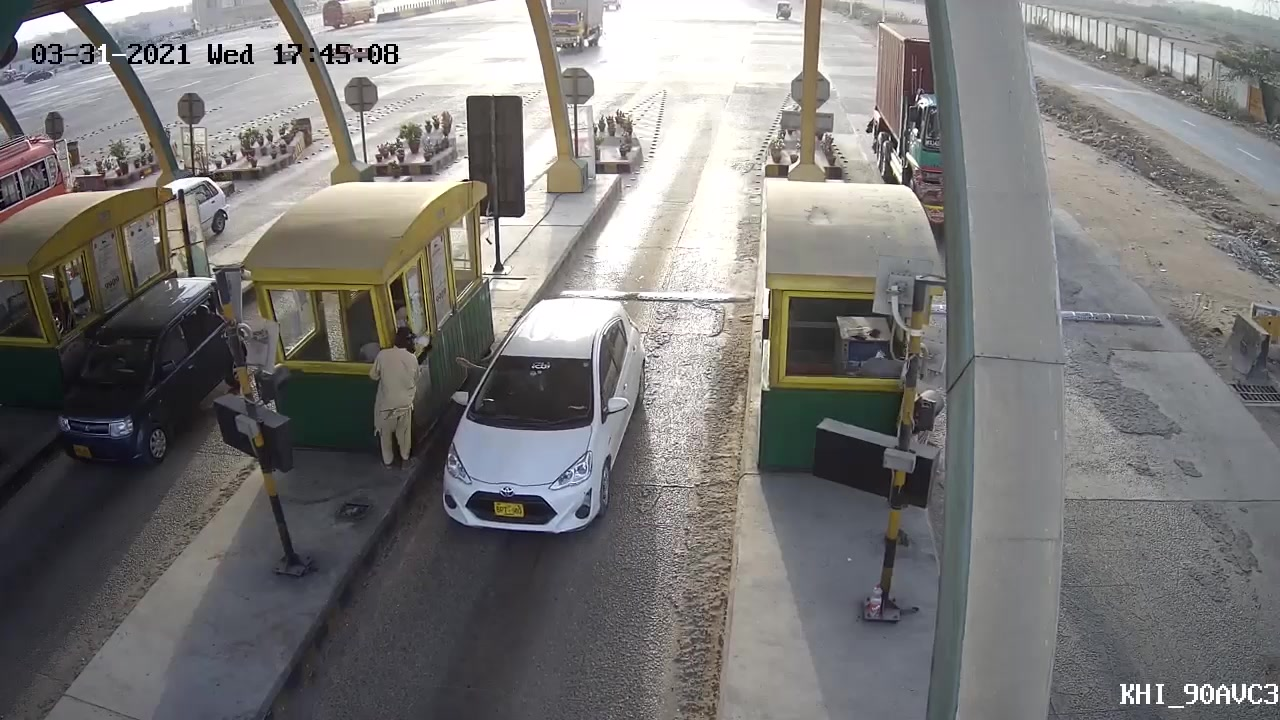F1: (443, 300, 648, 552)
